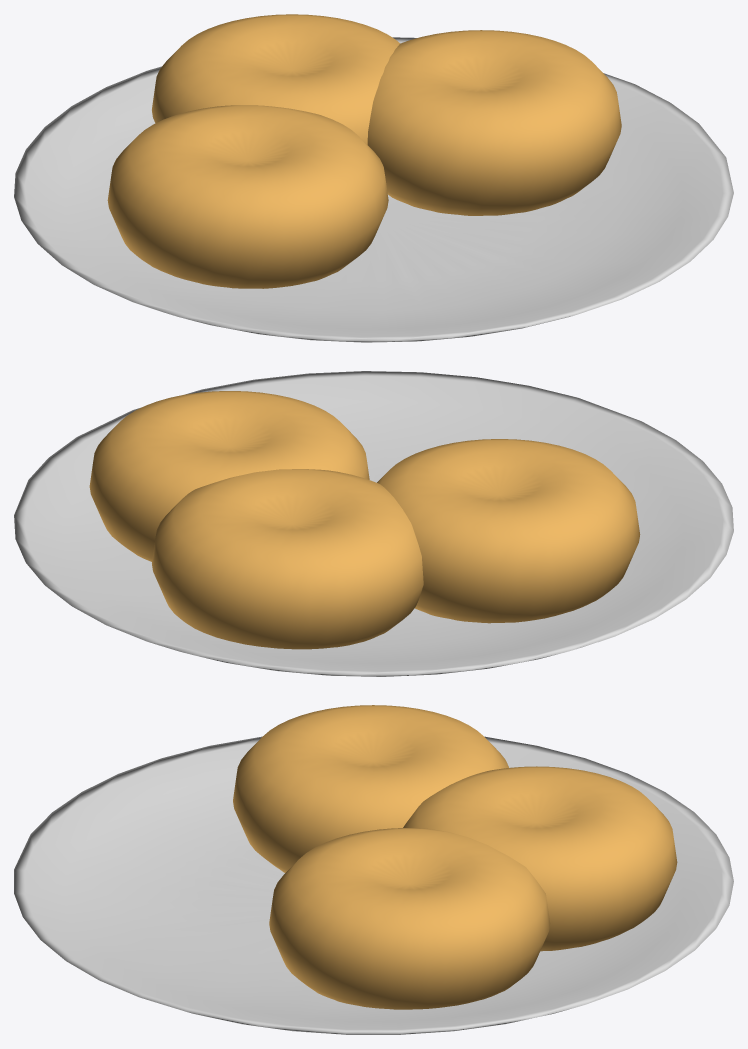
File: comida_pandebono.glb
3 views of the same model, one above another, from view 1: azimuth 30°, elevation 25°; view 2: azimuth 150°, elevation 25°; view 3: azimuth 270°, elevation 25° (orthographic).
Parts seen in each view (by area): view 1: plato.006, pandebono 0.001, pandebono 1.001, pandebono 2.001; view 2: plato.006, pandebono 2.001, pandebono 0.001, pandebono 1.001; view 3: plato.006, pandebono 1.001, pandebono 2.001, pandebono 0.001.
Boxes of the visible parts, left/top/right/bottom form: plato.006: left=14, top=37, right=733, bottom=342; pandebono 0.001: left=107, top=105, right=388, bottom=288; pandebono 1.001: left=367, top=30, right=621, bottom=215; pandebono 2.001: left=152, top=14, right=399, bottom=144; plato.006: left=14, top=371, right=733, bottom=676; pandebono 2.001: left=152, top=469, right=423, bottom=649; pandebono 0.001: left=377, top=439, right=640, bottom=623; pandebono 1.001: left=89, top=391, right=369, bottom=561; plato.006: left=14, top=736, right=733, bottom=1034; pandebono 1.001: left=269, top=828, right=550, bottom=1009; pandebono 2.001: left=403, top=766, right=677, bottom=951; pandebono 0.001: left=233, top=705, right=508, bottom=872.
Bounding box in the file's own units: 0.3967 × 0.0724 × 0.3967.
